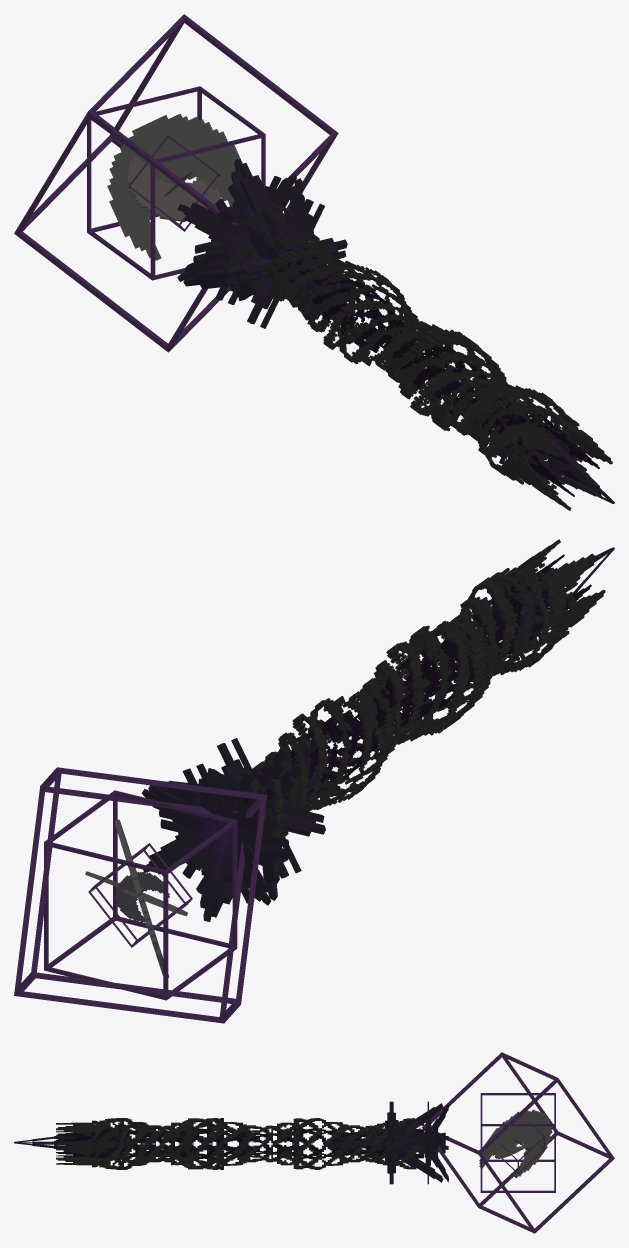
Rendered from 守夜人法杖.gltf.
3 renders of one model, top to bottom at view 1: azimuth 30°, elevation 25°; view 2: azimuth 150°, elevation 25°; view 3: azimuth 270°, elevation 25°, orthographic. The views are drawn at different scales.
Visible parts, largest first — view 1: Group, 外一环, 尾缀, 大, Group-1, 中环, 尾缀3, 中, 尾缀2 (×2), 尖; view 2: Group, 外一环, 尾缀3, 中环, Group-1, 尾缀, 尾缀2 (×2), 小, 内一环, 大; view 3: Group, 外一环, Group-1, 尾缀, 大, 中环, 尾缀3, 尾缀2 (×2), 尖, 中, 内一环.
Boxes of the visible parts, x1,y1,x2,y2 form: Group: [227, 203, 612, 510]; 外一环: [14, 14, 338, 352]; 尾缀: [183, 163, 347, 328]; 大: [107, 113, 242, 260]; Group-1: [276, 247, 599, 496]; 中环: [87, 86, 265, 280]; 尾缀3: [177, 158, 313, 304]; 中: [127, 155, 220, 221]; 尾缀2 (×2): [280, 248, 574, 483]; 尖: [500, 412, 614, 503]; Group: [213, 539, 605, 863]; 外一环: [14, 767, 267, 1023]; 尾缀3: [141, 763, 290, 921]; 中环: [44, 790, 237, 1000]; Group-1: [243, 554, 591, 821]; 尾缀: [148, 738, 325, 917]; 尾缀2 (×2): [282, 570, 569, 809]; 小: [115, 871, 169, 922]; 内一环: [88, 843, 192, 947]; 大: [114, 819, 169, 977]; Group: [56, 1118, 423, 1169]; 外一环: [422, 1052, 614, 1233]; Group-1: [56, 1128, 423, 1159]; 尾缀: [367, 1101, 443, 1184]; 大: [479, 1109, 552, 1177]; 中环: [480, 1093, 555, 1192]; 尾缀3: [418, 1101, 448, 1184]; 尾缀2 (×2): [82, 1122, 378, 1163]; 尖: [14, 1129, 121, 1157]; 中: [494, 1126, 545, 1158]; 内一环: [499, 1111, 544, 1174].
Size of the model in its own units: 90 by 90 by 318.
1 material, 1 textured.
